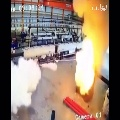fire: (74, 40, 95, 95)
